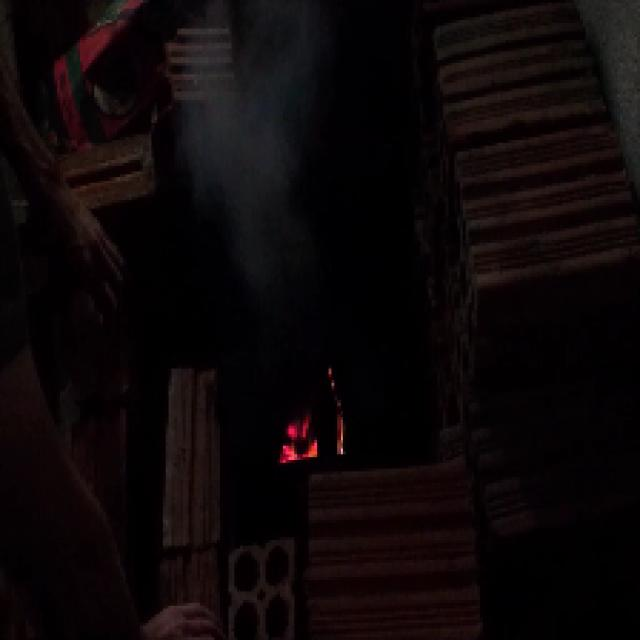fire: (269, 390, 350, 469)
smoke: (198, 108, 280, 183)
